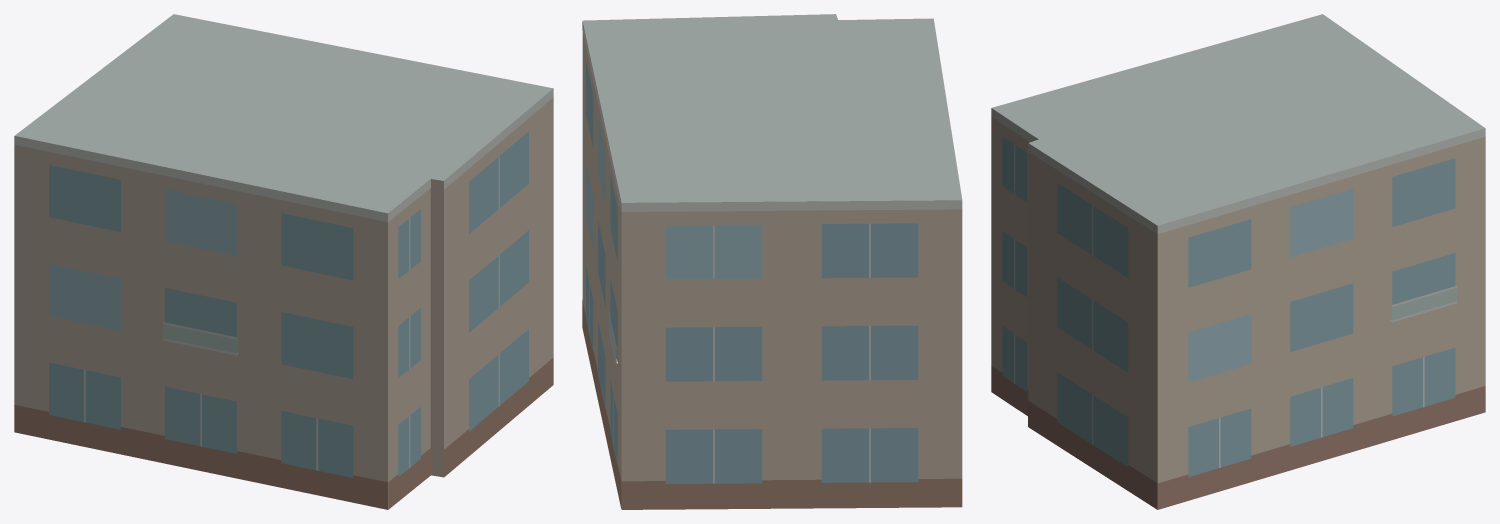
The model's file is survey-upis-32780409.glb.
The picture shows the model from 3 angles, left to right: view 1: azimuth 30°, elevation 25°; view 2: azimuth 150°, elevation 25°; view 3: azimuth 270°, elevation 25°; orthographic projection. The views are drawn at different scales.
Parts seen in each view (by area): view 1: survey-upis-32780409.tmp; view 2: survey-upis-32780409.tmp; view 3: survey-upis-32780409.tmp.
Part boxes in pixels (bbox=[...]): survey-upis-32780409.tmp: bbox=[14, 14, 553, 509]; survey-upis-32780409.tmp: bbox=[582, 14, 962, 509]; survey-upis-32780409.tmp: bbox=[991, 14, 1485, 509].
Size of the model in its own units: 13.12 by 8.2 by 12.94.
